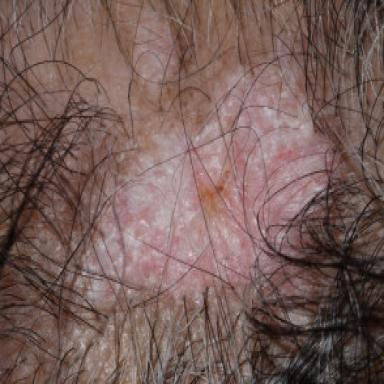Lupus-Erythematosus-Chronicus-Discoides: (89, 66, 329, 292)
